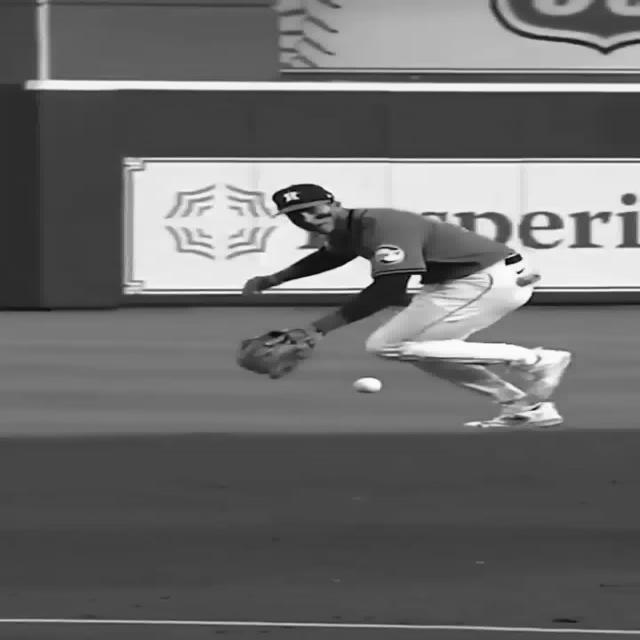baseball: (352, 377, 382, 393)
baseball_glove: (236, 327, 316, 379)
shoe: (463, 402, 563, 428), (524, 347, 571, 402)
